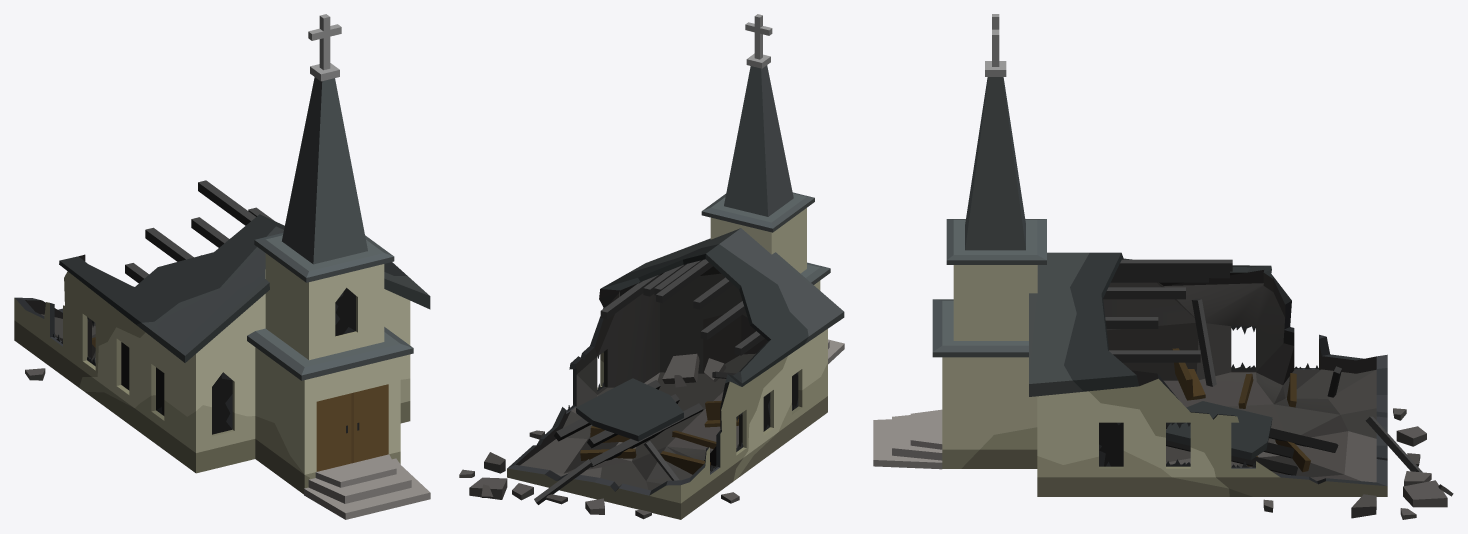
Rendered from SA_Bld_Church_Damaged_01.gltf.
The picture shows the model from 3 angles, left to right: view 1: azimuth 30°, elevation 25°; view 2: azimuth 150°, elevation 25°; view 3: azimuth 270°, elevation 25°; orthographic projection. The views are drawn at different scales.
Parts seen in each view (by area): view 1: SA_Bld_Church_Damaged_01; view 2: SA_Bld_Church_Damaged_01; view 3: SA_Bld_Church_Damaged_01.
Boxes of the visible parts, x1,y1,x2,y2 form: SA_Bld_Church_Damaged_01: (14,14,430,519); SA_Bld_Church_Damaged_01: (459,14,844,519); SA_Bld_Church_Damaged_01: (873,14,1453,519).
Bounding box in the file's own units: 12.85 × 19.27 × 23.08.
Materials: 1 (1 with a texture image).
